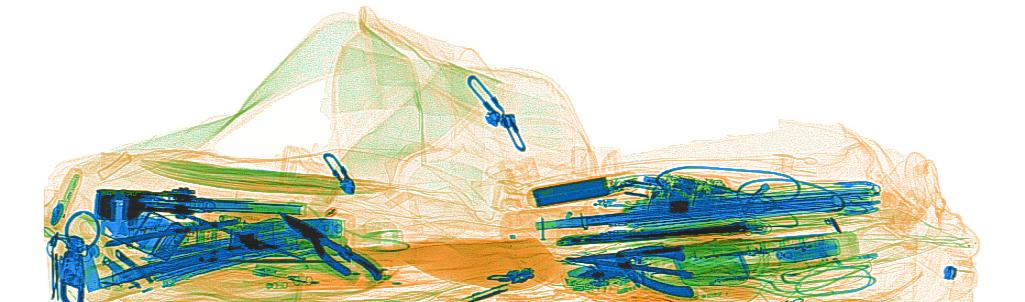battery: (773, 239, 843, 263), (284, 217, 343, 239)
